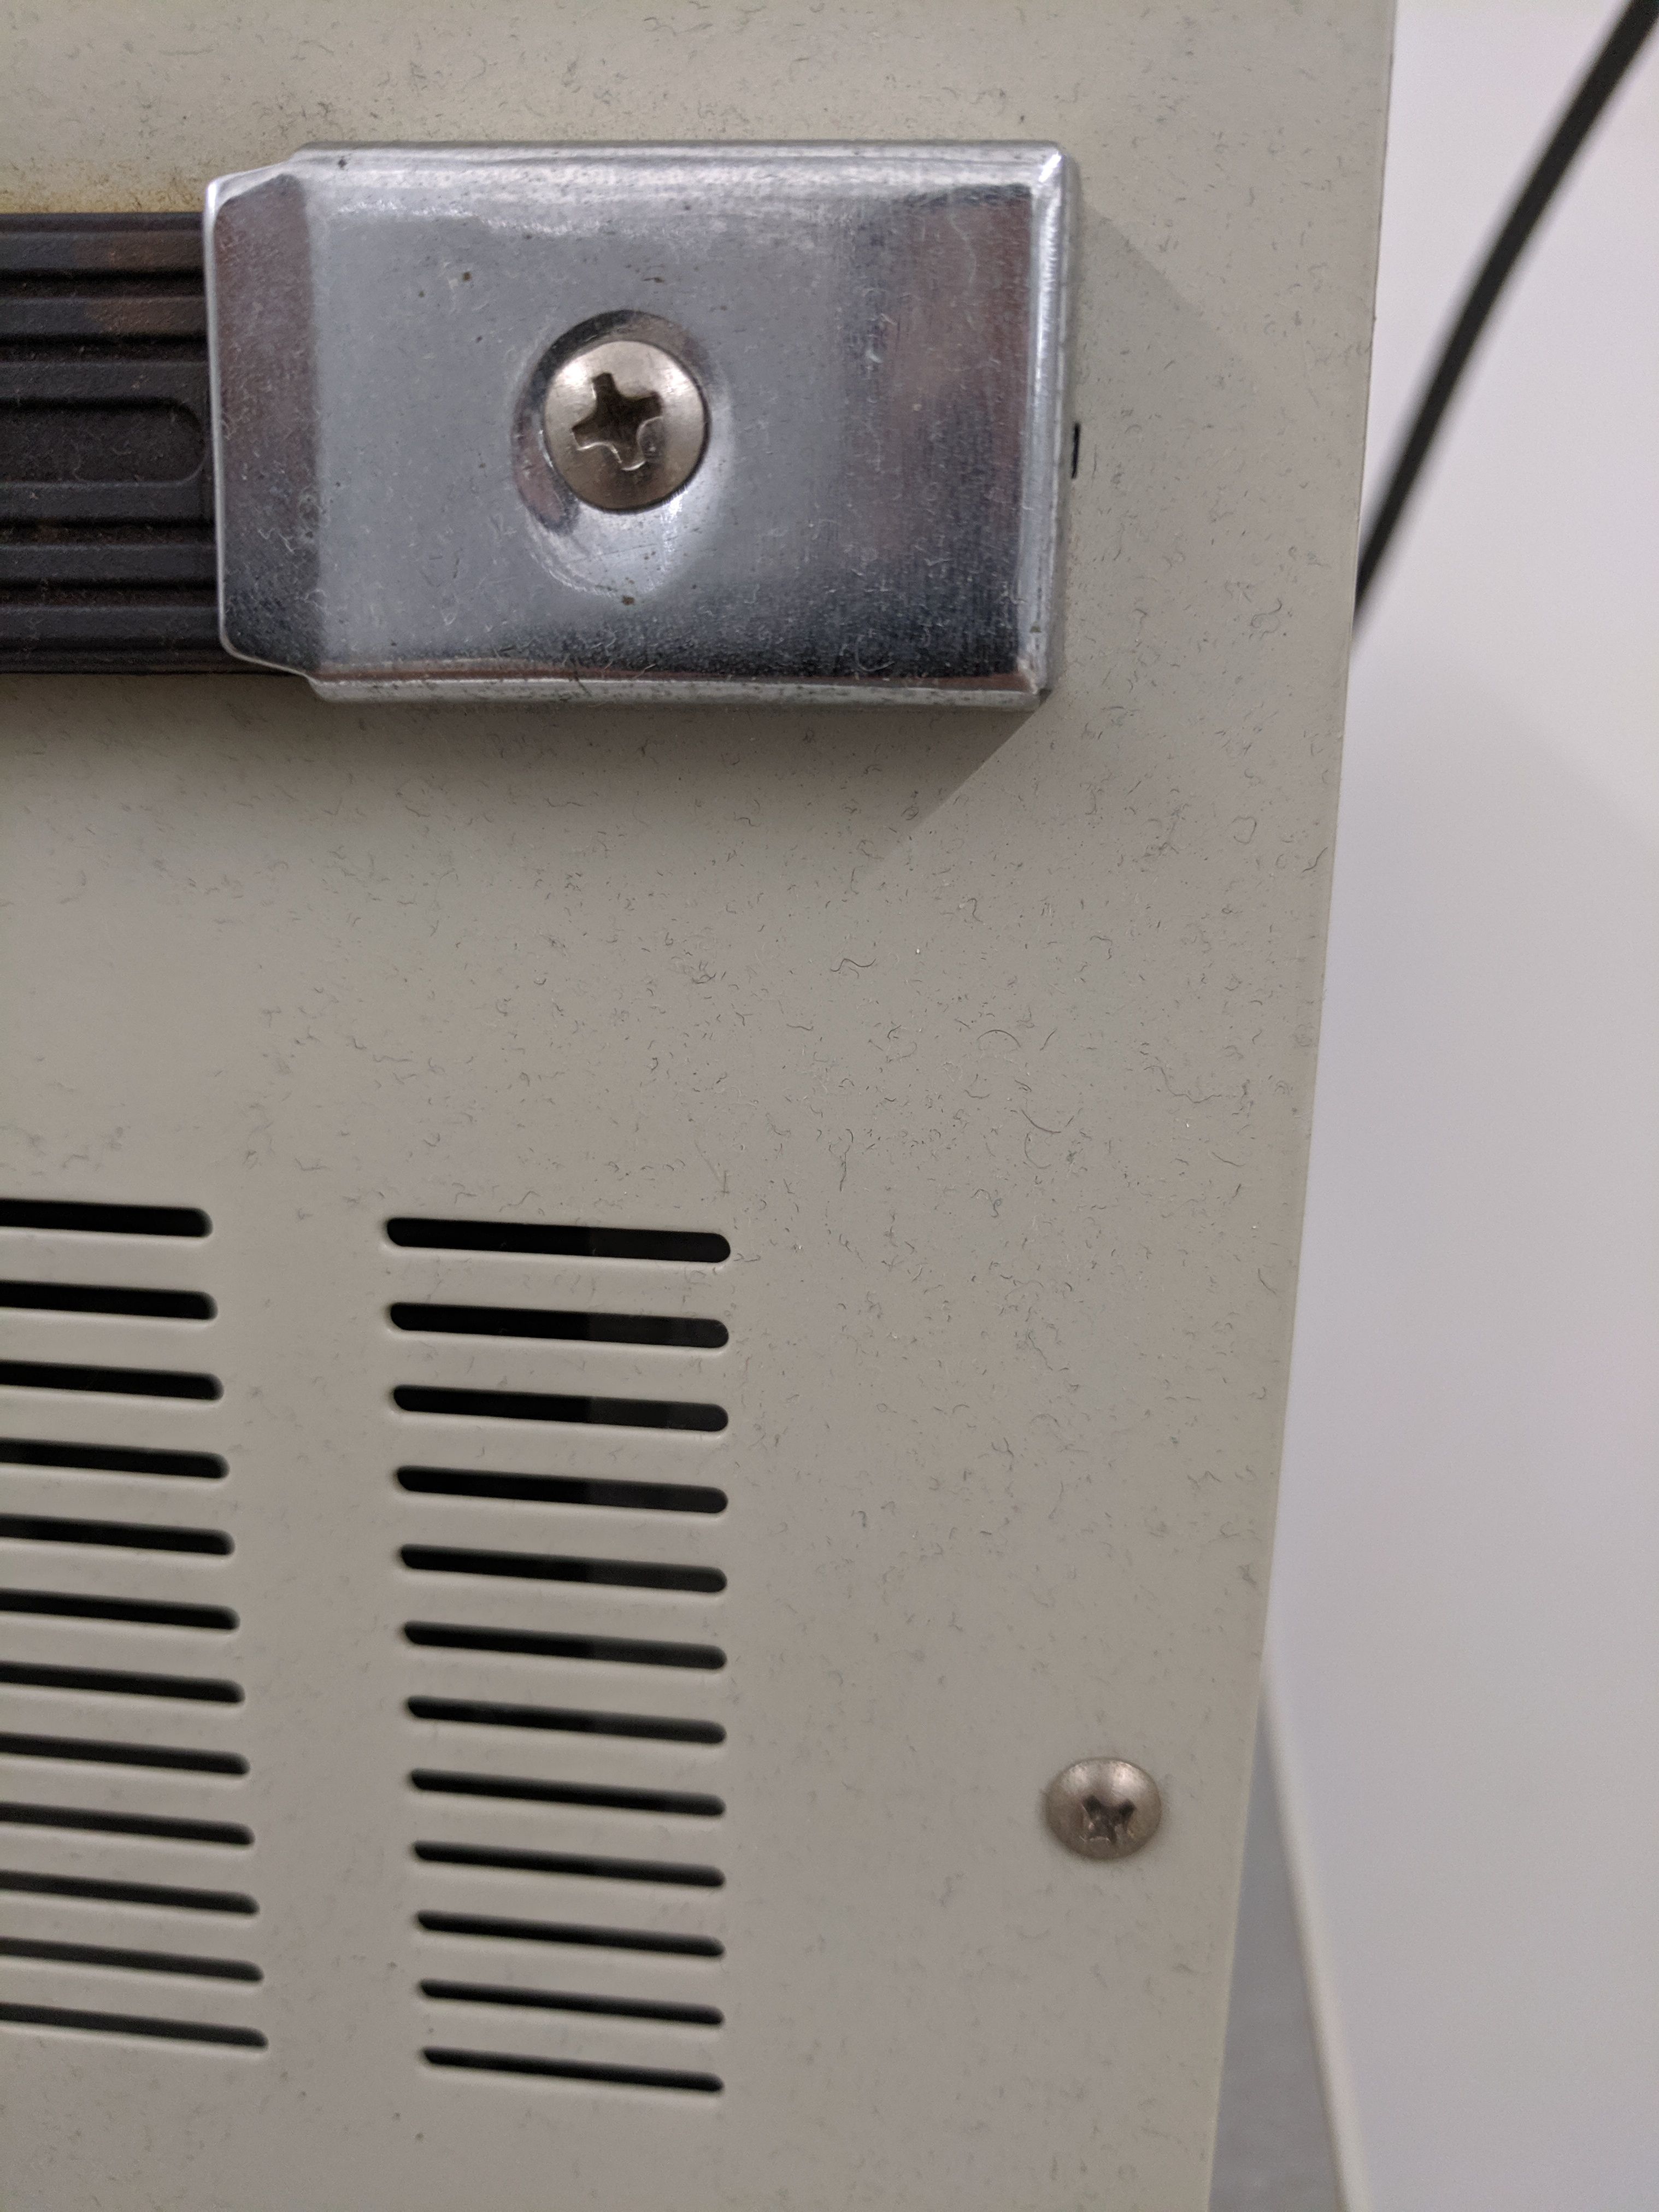cross_recessed_screw: (525, 333, 716, 502), (1042, 1752, 1169, 1860)
